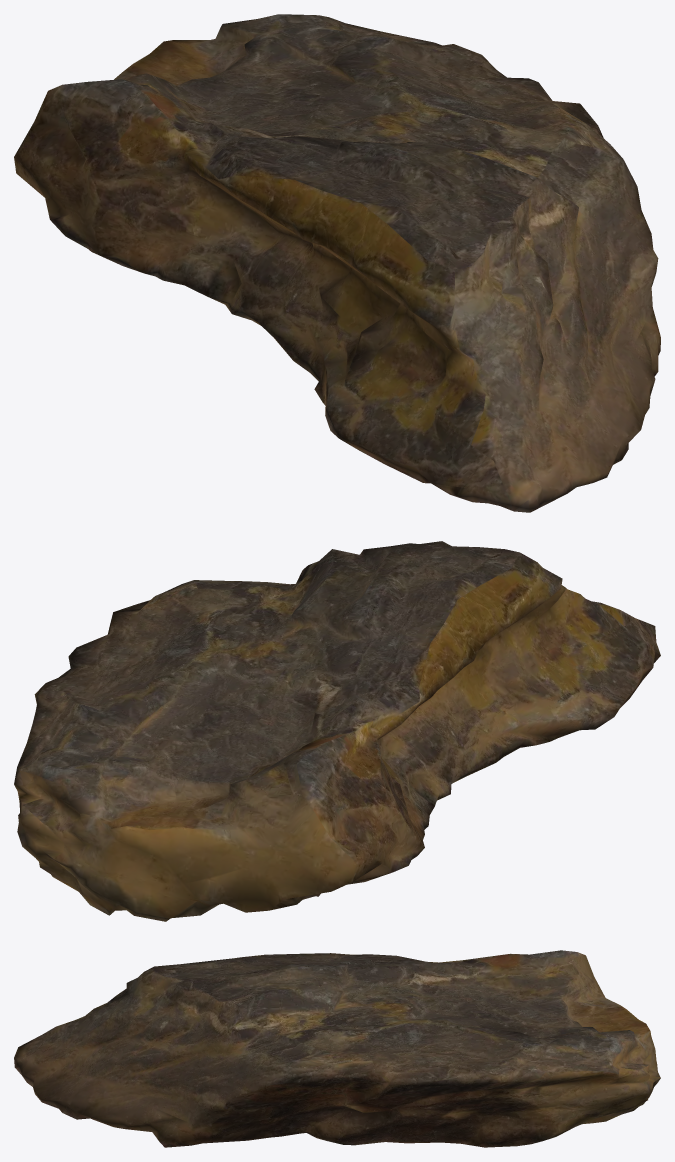
The model's file is rock_09.glb.
The picture shows the model from 3 angles, top to bottom: view 1: azimuth 30°, elevation 25°; view 2: azimuth 150°, elevation 25°; view 3: azimuth 270°, elevation 25°; orthographic projection. The views are drawn at different scales.
Parts seen in each view (by area): view 1: rock_09_lod0; view 2: rock_09_lod0; view 3: rock_09_lod0.
Boxes of the visible parts, x1,y1,x2,y2 form: rock_09_lod0: (14,14,660,512); rock_09_lod0: (14,541,660,921); rock_09_lod0: (14,950,660,1147).
Size of what is drawn, in the model's own units: 0.074 by 0.0328 by 0.1448.
Materials: 1 (1 with a texture image).
